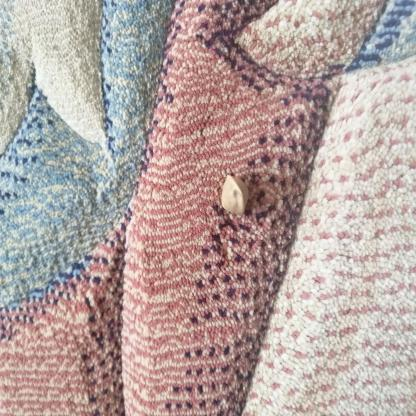pistachio: (220, 171, 251, 215)
